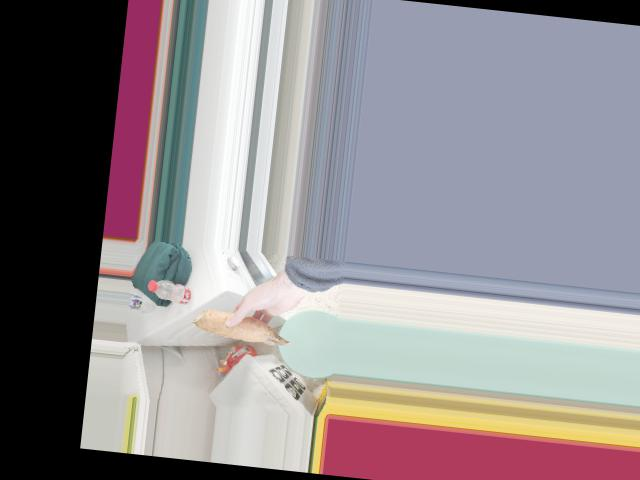sweet_potato: (187, 312, 297, 349)
